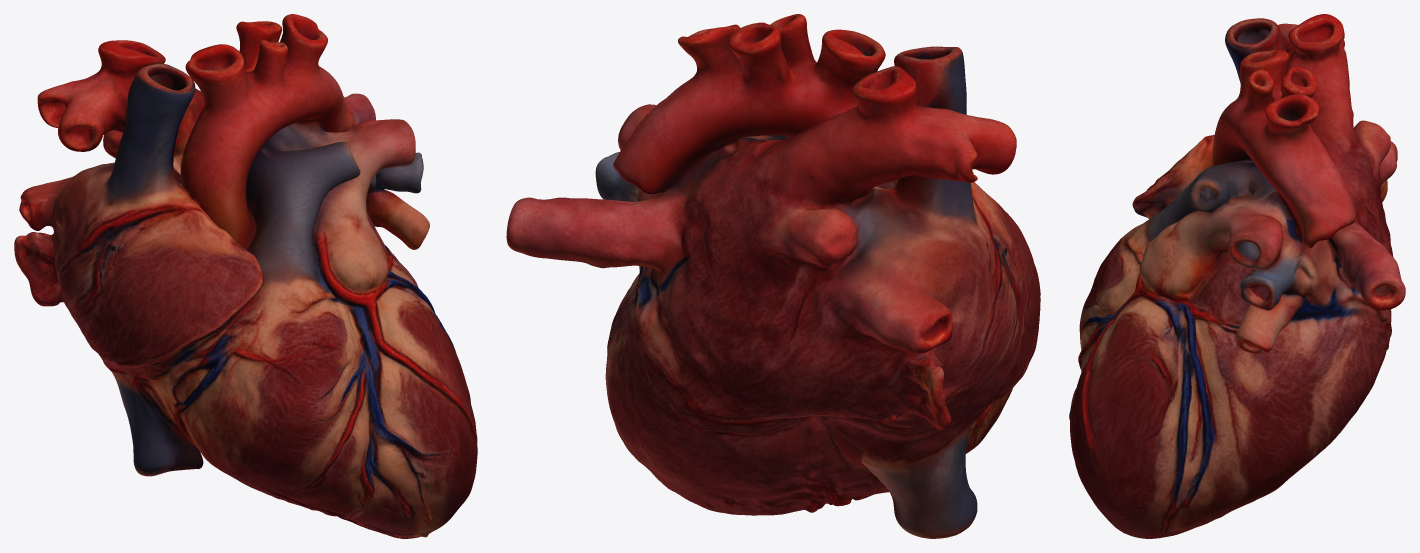
Rendered from paciente-canino.glb.
3 renders of one model, left to right at view 1: azimuth 30°, elevation 25°; view 2: azimuth 150°, elevation 25°; view 3: azimuth 270°, elevation 25°, orthographic. The views are drawn at different scales.
Visible parts, largest first — view 1: world; view 2: world; view 3: world.
Part boxes in pixels (x1,y1,x2,y2): world: (14,14,477,538); world: (506,14,1040,538); world: (1069,14,1405,538).
Size of the model in its own units: 0.8098 by 1 by 0.711.
1 material, 1 textured.
